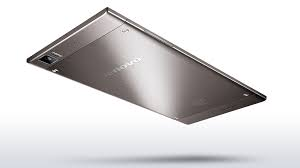lenovo: (20, 6, 270, 126)
